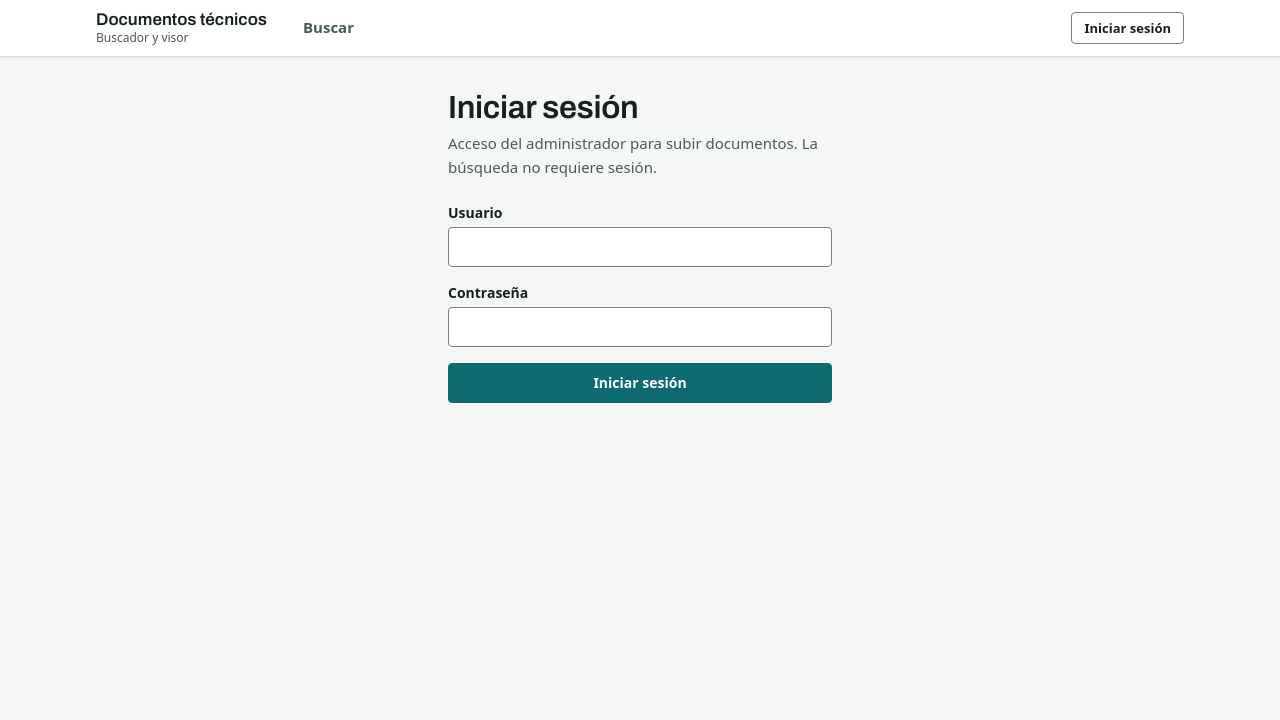
Test: Sesión del administrador › un 404 sin mensaje (proxy hacia otro servidor) no habla de documentos ni de credenciales
This screenshot has width=1280, height=720.
In the field labelled "Usuario": (640,247) [448, 227, 832, 267], type "admin"
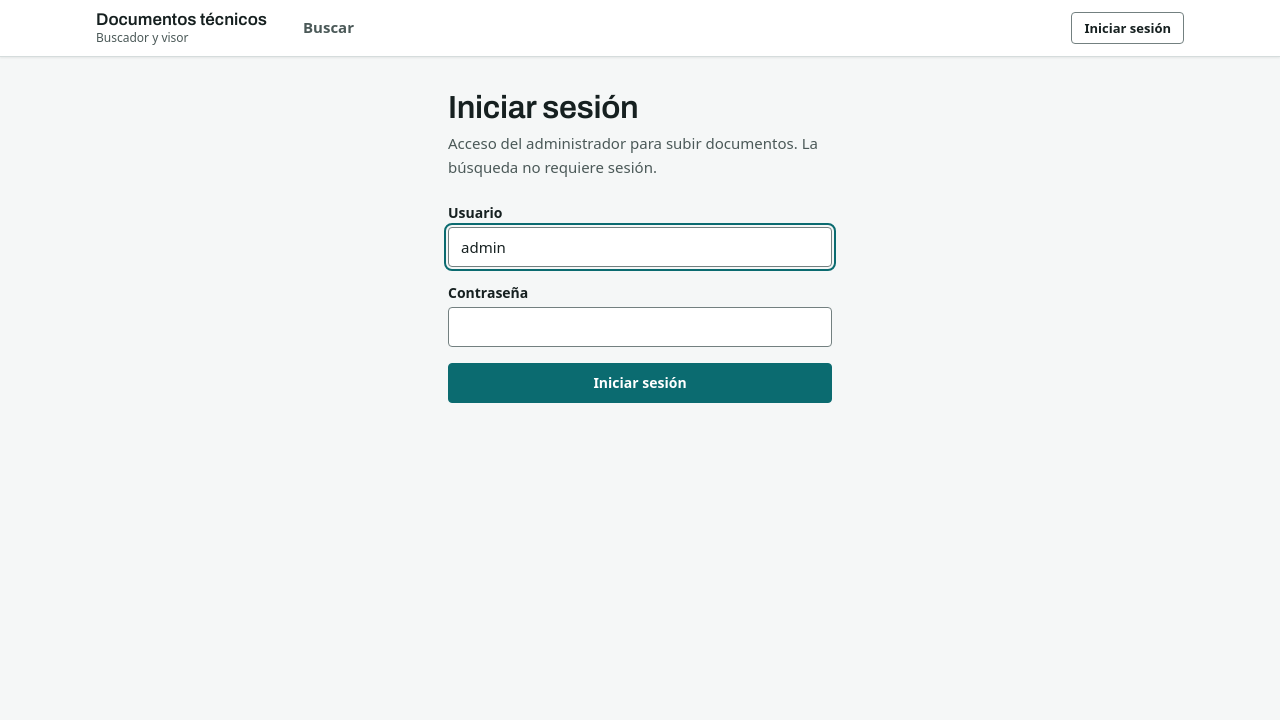
In the password field labelled "Contraseña": (640,327) [448, 307, 832, 347], type "clave"
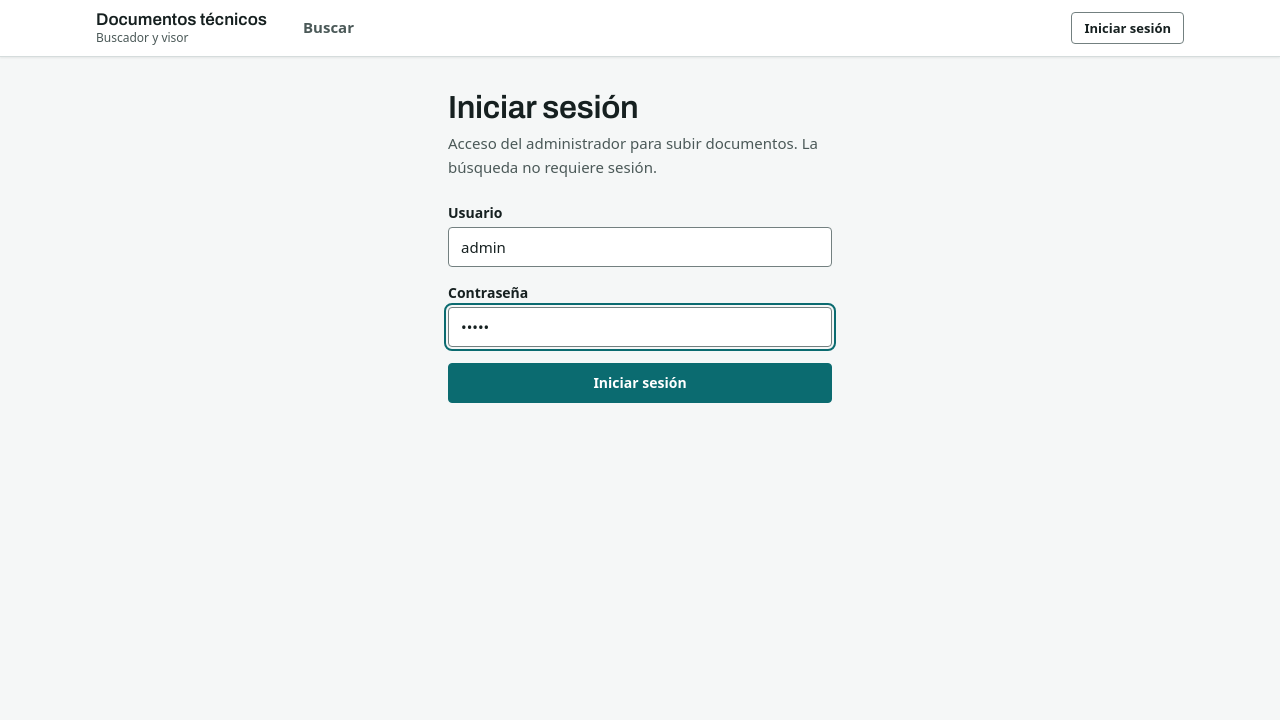
Click the button "Iniciar sesión": (640,383) [448, 363, 832, 403]
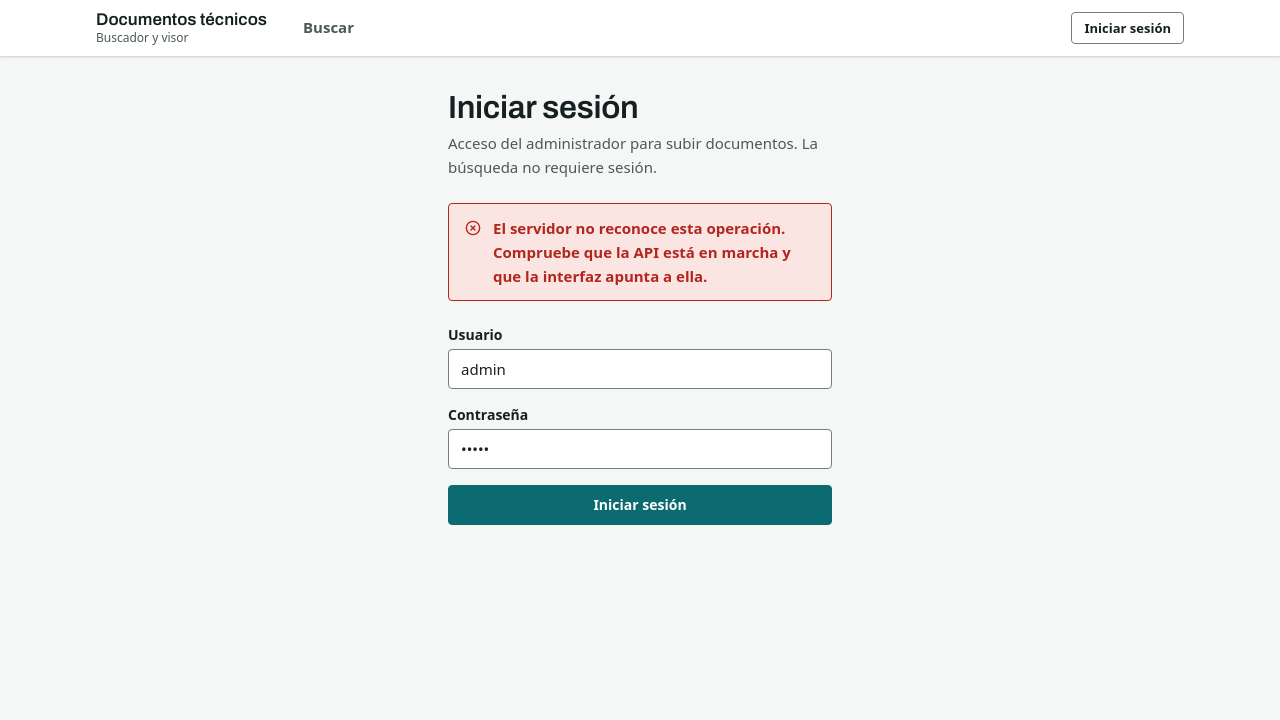
Check: the message does not show "Revise el usuario", box [448, 203, 832, 301]
Check: the message shows "El servidor no reconoce esta operación", box [493, 218, 791, 286]
